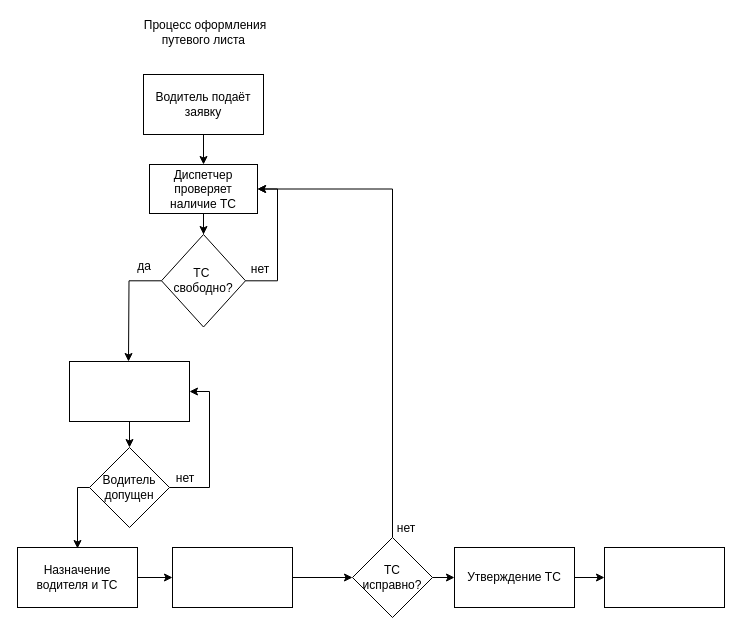
Some shapes in this 742 by 635 pixel diagram are drawn without their labels. Here are the shapes that lost their labels. From the top down, the centre of each, then its label:
At (129,391): "Проверка водителя".
At (232,577): "Проверка техсостояния механиком".
At (664,577): "Выдача путевого листа".
